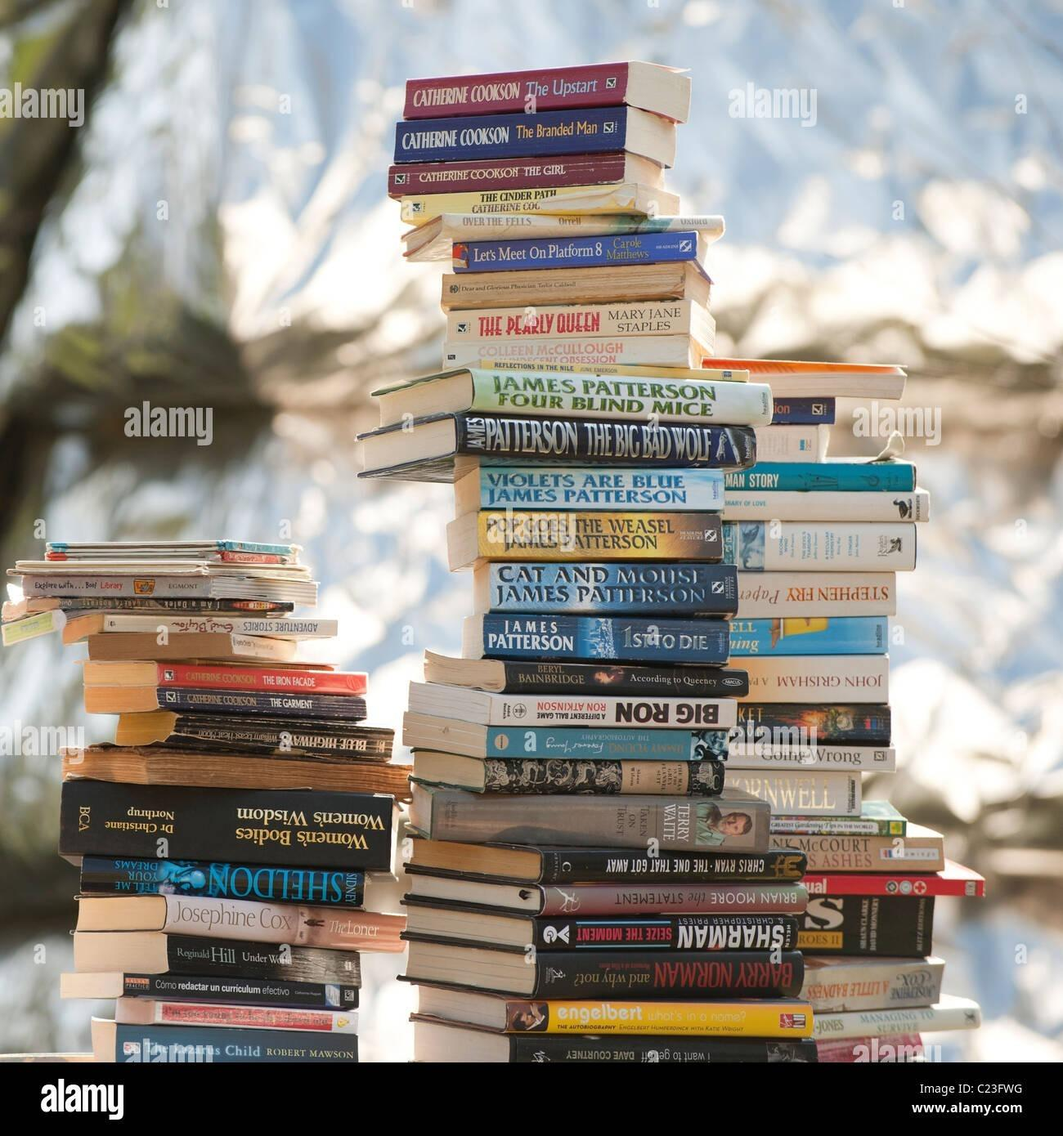book: (59, 781, 403, 869), (69, 890, 405, 952), (400, 59, 673, 123), (440, 785, 699, 848), (438, 363, 734, 418), (78, 855, 383, 908), (390, 109, 655, 166), (115, 937, 368, 993), (443, 297, 701, 350), (418, 682, 685, 733), (388, 150, 651, 199), (498, 909, 787, 953), (473, 506, 713, 557), (477, 612, 724, 660), (415, 749, 670, 795), (449, 228, 694, 275), (422, 720, 686, 763), (483, 562, 724, 607), (453, 330, 702, 373), (102, 1021, 361, 1062), (451, 656, 709, 697), (399, 183, 662, 223), (97, 994, 366, 1032), (487, 464, 718, 508), (796, 954, 951, 1013), (734, 520, 918, 569), (725, 481, 923, 524), (797, 995, 980, 1040), (152, 686, 378, 718), (70, 615, 336, 641), (766, 832, 943, 871), (729, 459, 920, 495), (786, 913, 935, 958), (729, 655, 891, 696), (725, 771, 868, 817), (735, 703, 886, 746), (731, 621, 888, 657), (17, 575, 231, 597), (732, 744, 889, 772)
